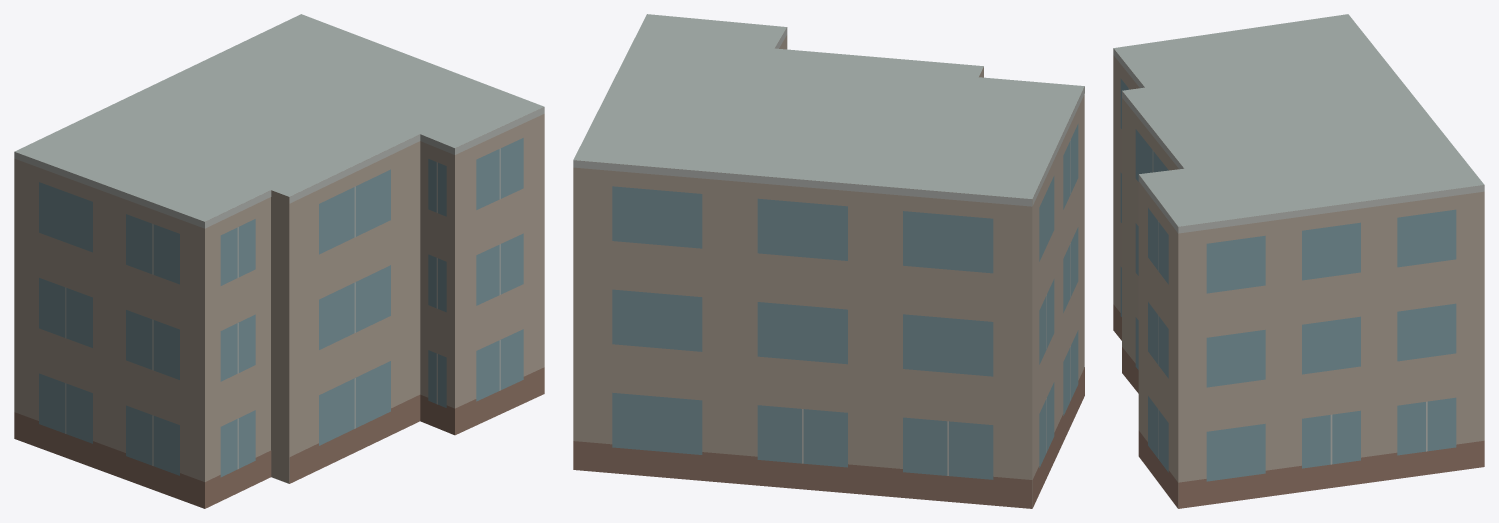
Rendered from survey-upis-32667154.glb.
The picture shows the model from 3 angles, left to right: view 1: azimuth 30°, elevation 25°; view 2: azimuth 150°, elevation 25°; view 3: azimuth 270°, elevation 25°; orthographic projection. The views are drawn at different scales.
Visible parts, largest first — view 1: survey-upis-32667154.tmp; view 2: survey-upis-32667154.tmp; view 3: survey-upis-32667154.tmp.
Part boxes in pixels (box(x1,y1,x2,y2)): survey-upis-32667154.tmp: box(14, 14, 544, 508); survey-upis-32667154.tmp: box(573, 14, 1084, 508); survey-upis-32667154.tmp: box(1113, 14, 1484, 508).
Size of the model in its own units: 16.51 by 10.2 by 12.18.
